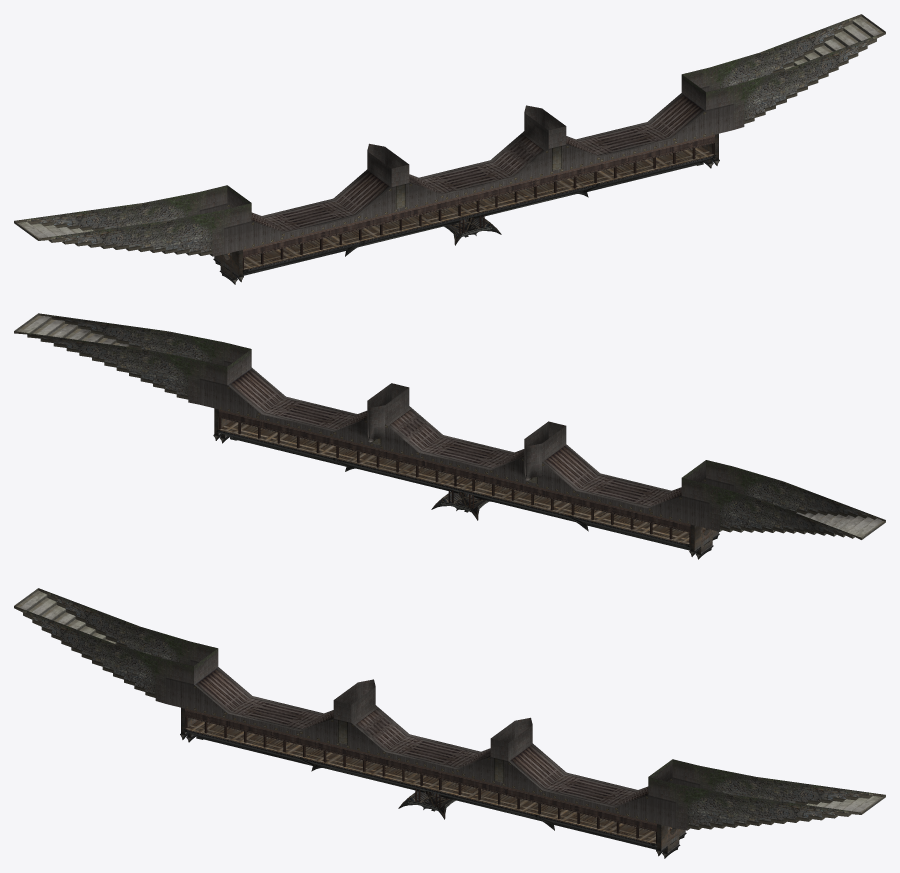
Rendered from yuqingqiao.FBX.
3 views of the same model, one above another, from view 1: azimuth 30°, elevation 25°; view 2: azimuth 150°, elevation 25°; view 3: azimuth 330°, elevation 25° (orthographic).
Parts seen in each view (by area): view 1: yuqingqiao; view 2: yuqingqiao; view 3: yuqingqiao.
Boxes of the visible parts, x1=… form: yuqingqiao: x1=14, y1=14, x2=885, y2=284; yuqingqiao: x1=14, y1=313, x2=885, y2=559; yuqingqiao: x1=14, y1=588, x2=885, y2=858.
Size of the model in its own units: 14974 by 1693 by 1312.
Materials: 1 (1 with a texture image).
